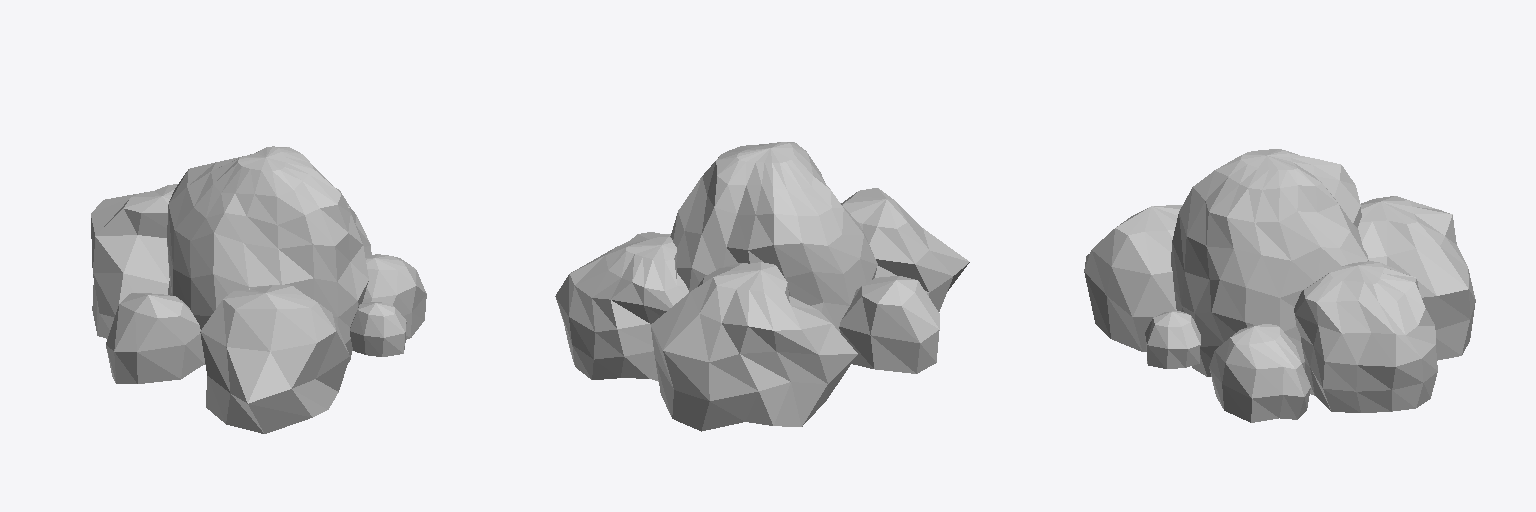
The model's file is stones_2.obj.
3 renders of one model, left to right at view 1: azimuth 30°, elevation 25°; view 2: azimuth 150°, elevation 25°; view 3: azimuth 270°, elevation 25°, orthographic.
Parts seen in each view (by area): view 1: Sphere001; view 2: Sphere001; view 3: Sphere001.
Boxes of the visible parts, x1=… form: Sphere001: x1=91, y1=146, x2=426, y2=433; Sphere001: x1=555, y1=142, x2=969, y2=431; Sphere001: x1=1084, y1=149, x2=1475, y2=422.
Size of the model in its own units: 709 by 442 by 767.